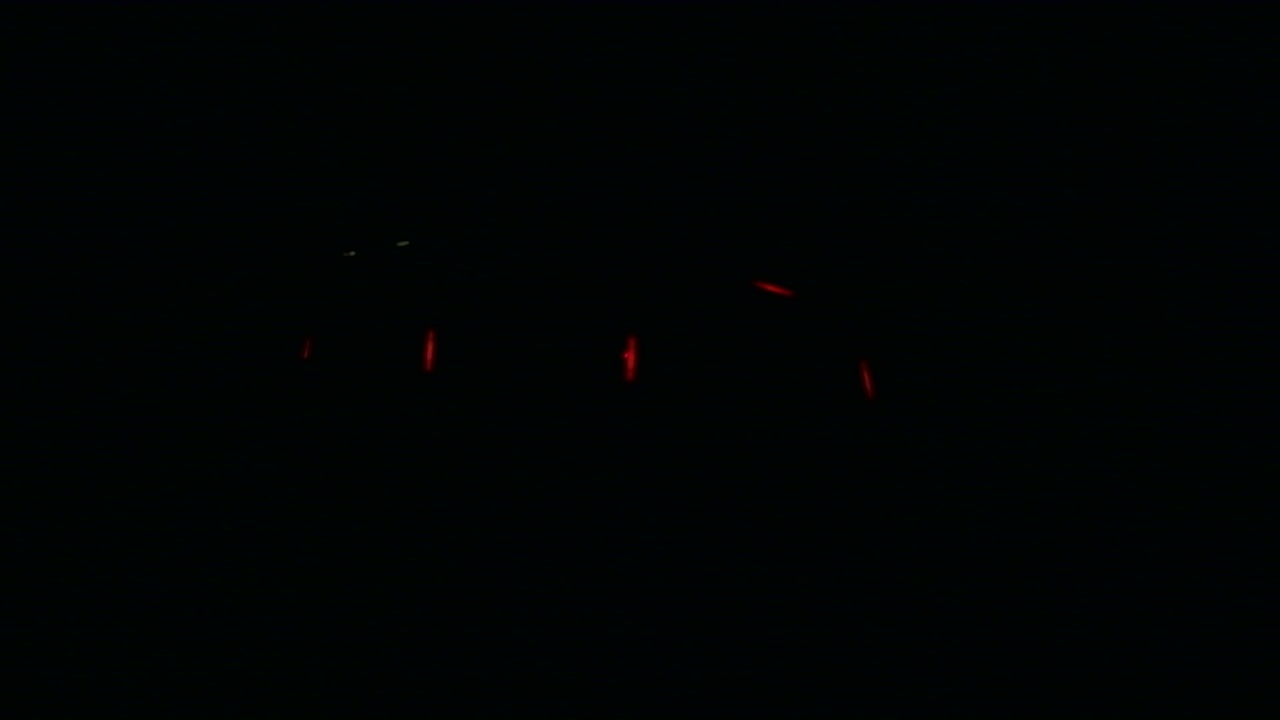lamp: (863, 336, 878, 403), (422, 326, 435, 385), (623, 337, 638, 382)
notpair2: (624, 338, 878, 404)
pair2: (423, 327, 637, 385)
